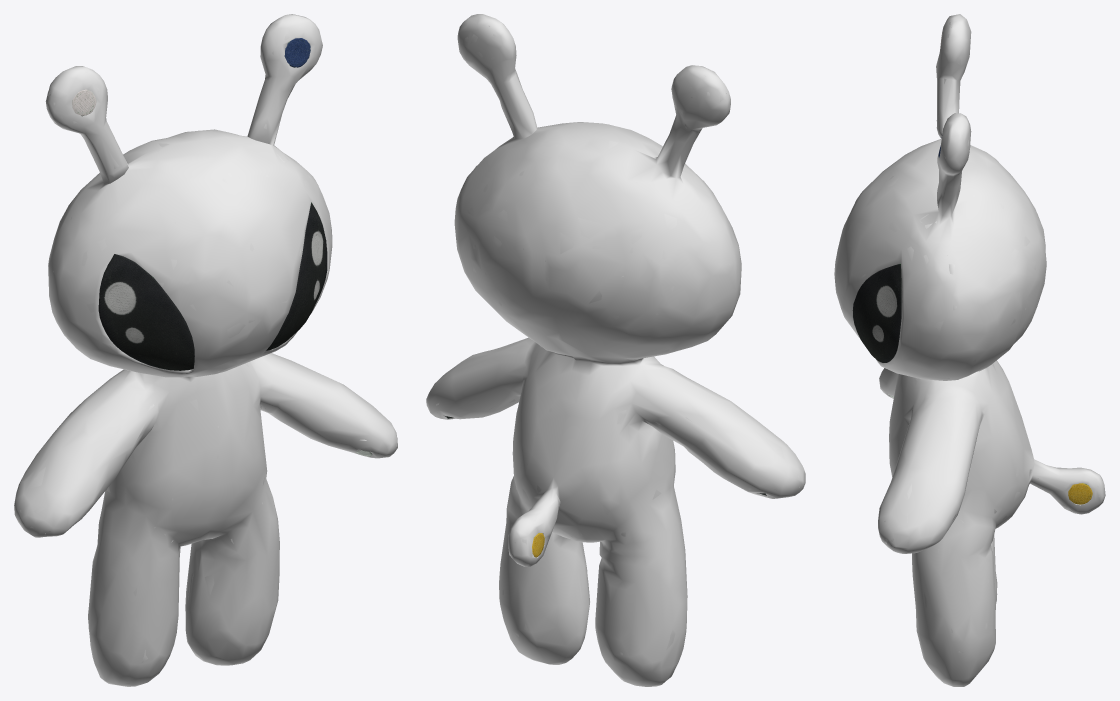
Rendered from green_ikea_alien_pbr.glb.
3 views of the same model, side by side, from view 1: azimuth 30°, elevation 25°; view 2: azimuth 150°, elevation 25°; view 3: azimuth 270°, elevation 25° (orthographic). The views are drawn at different scales.
Parts seen in each view (by area): view 1: AFTONSPARV; view 2: AFTONSPARV; view 3: AFTONSPARV.
Part boxes in pixels (box(x1,y1,x2,y2)): AFTONSPARV: box(14, 14, 397, 686); AFTONSPARV: box(426, 14, 805, 686); AFTONSPARV: box(834, 14, 1105, 686).
Bounding box in the file's own units: 0.214 × 0.3481 × 0.1441.
4 materials, 3 textured.
